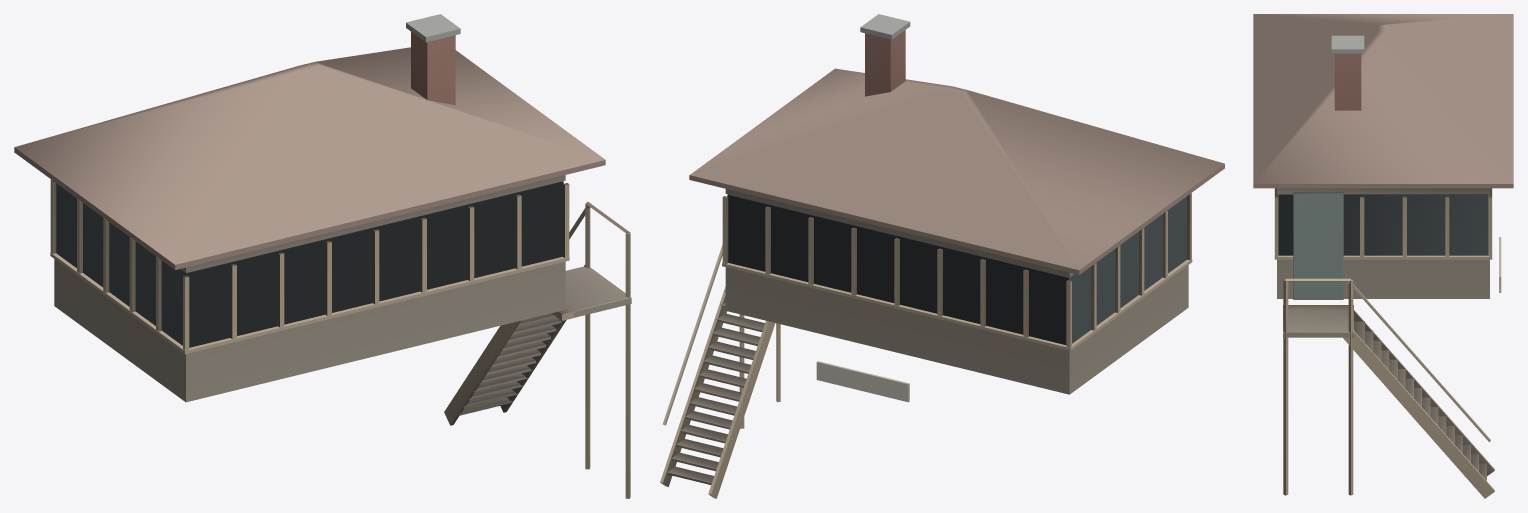
File: signal_box.glb
The picture shows the model from 3 angles, left to right: view 1: azimuth 30°, elevation 25°; view 2: azimuth 150°, elevation 25°; view 3: azimuth 270°, elevation 25°; orthographic projection. The views are drawn at different scales.
Parts seen in each view (by area): view 1: static; view 2: static; view 3: static.
Part boxes in pixels (x1,y1,x2,y2): static: (14, 14, 631, 498); static: (660, 14, 1224, 498); static: (1253, 14, 1513, 498).
Size of the model in its own units: 7.51 by 7.35 by 4.4.
